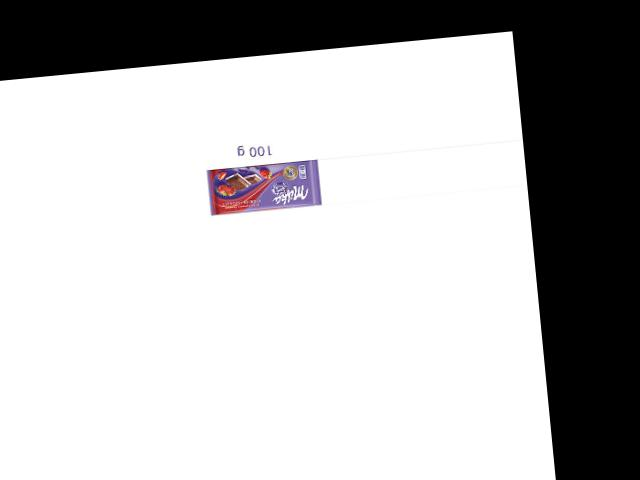chocolate: (205, 153, 321, 216)
